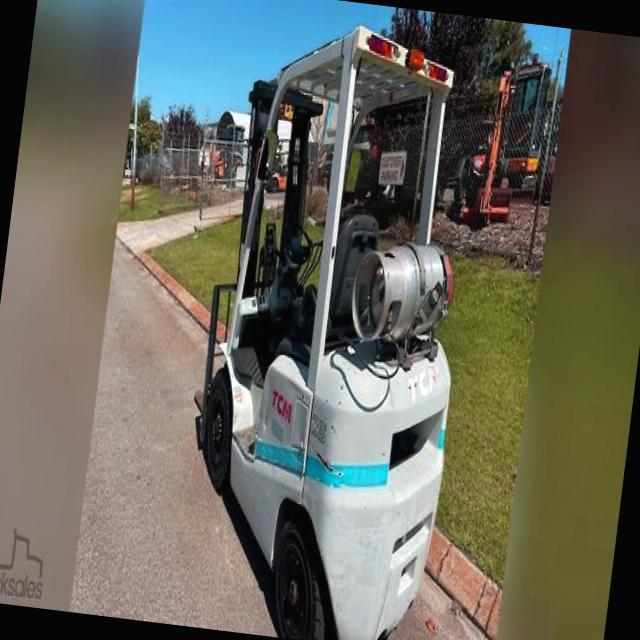forklift: (165, 6, 499, 640)
